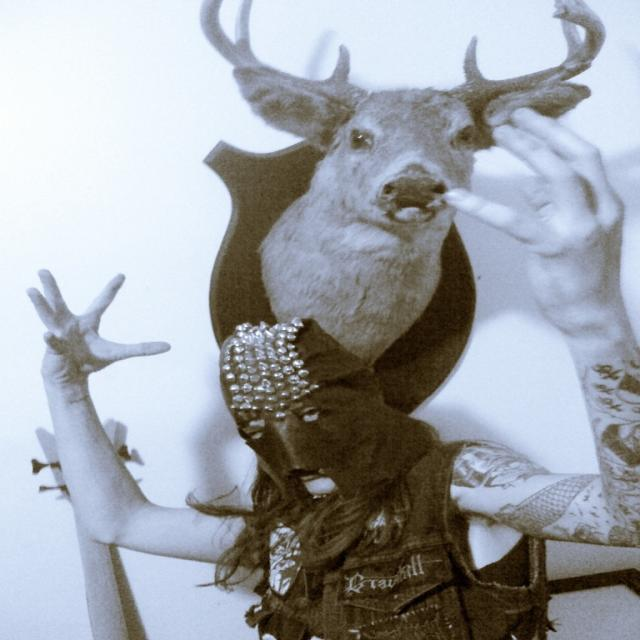Deer: (197, 0, 606, 372)
